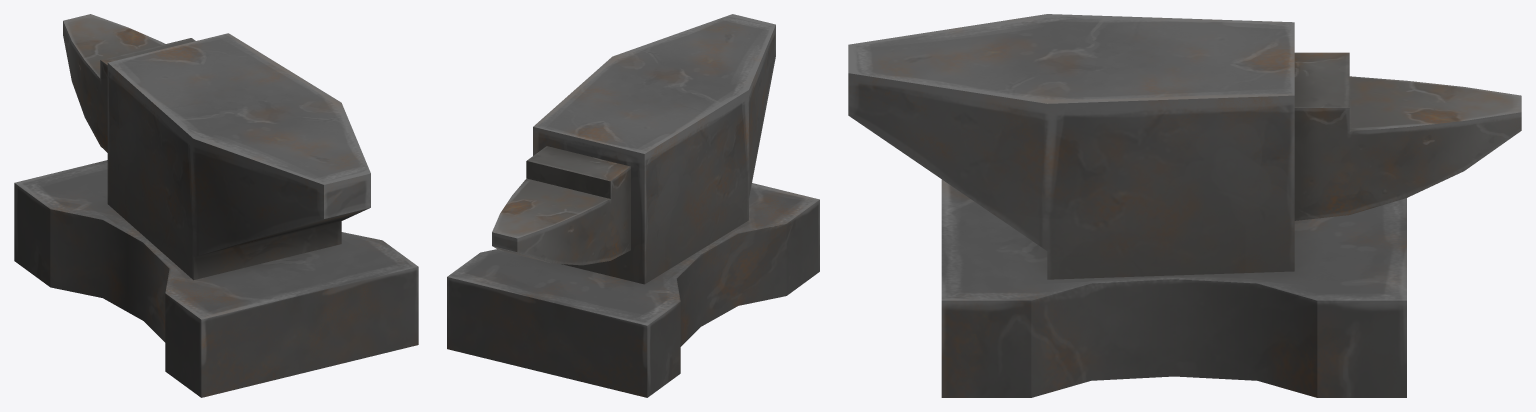
Rendered from Anvil.FBX.
3 views of the same model, side by side, from view 1: azimuth 30°, elevation 25°; view 2: azimuth 150°, elevation 25°; view 3: azimuth 270°, elevation 25° (orthographic). The views are drawn at different scales.
Visible parts, largest first — view 1: Anvil; view 2: Anvil; view 3: Anvil.
Boxes of the visible parts, x1,y1,x2,y2 form: Anvil: (14, 14, 418, 397); Anvil: (447, 14, 819, 397); Anvil: (848, 14, 1521, 397).
Size of what is drawn, in the model's own units: 118 by 255 by 114.
